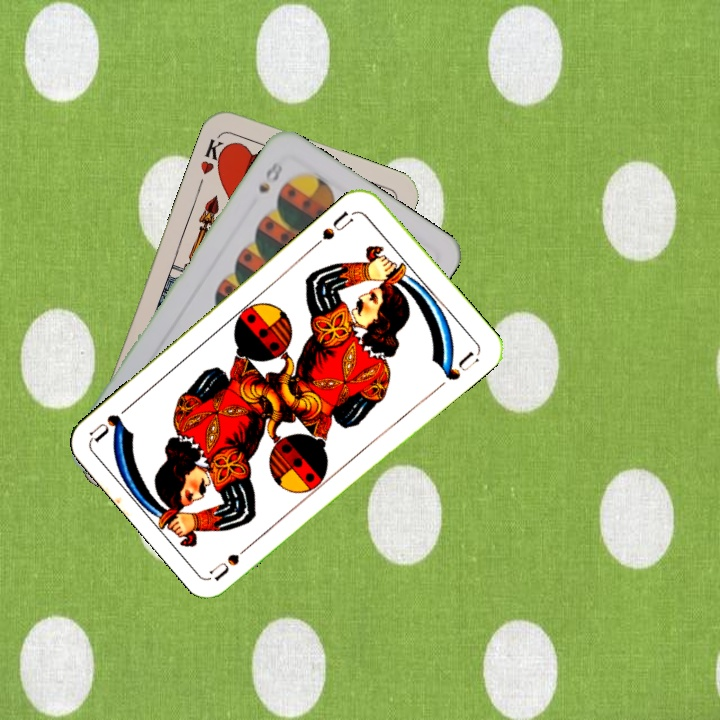HK: (196, 131, 231, 177)
S8: (254, 156, 286, 196)
SU: (206, 536, 258, 582), (309, 207, 359, 250)
